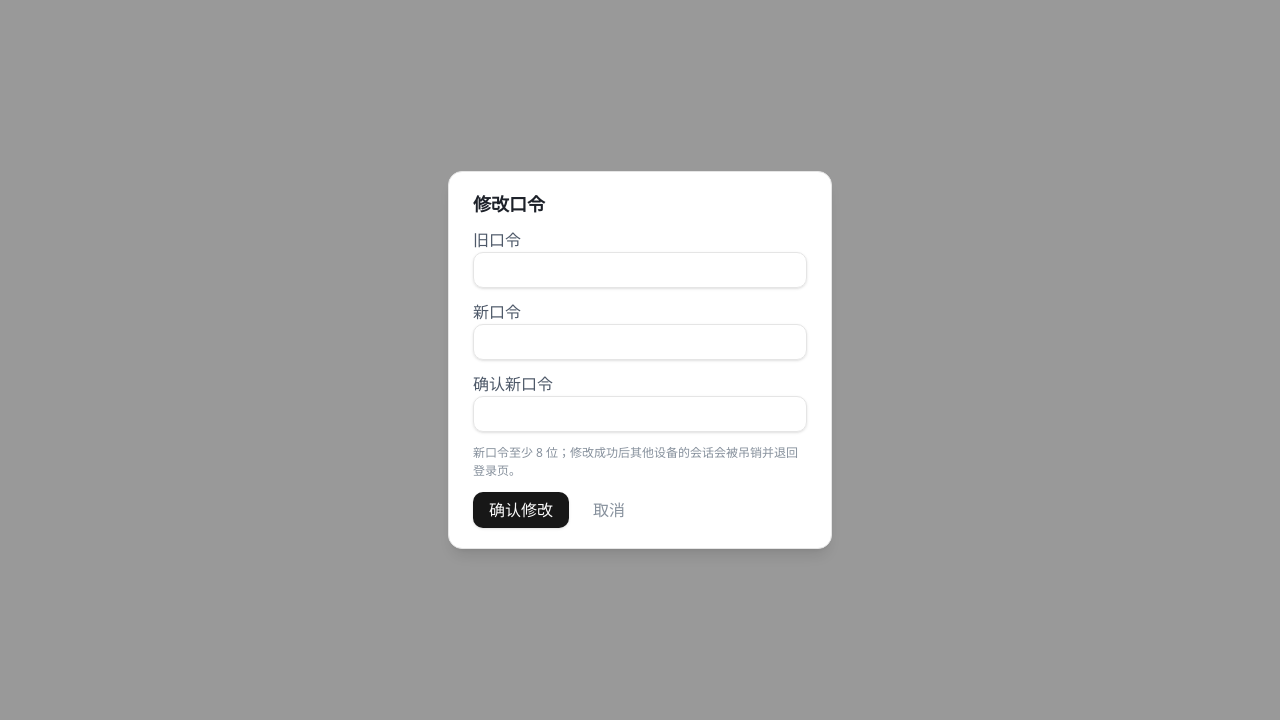
Test case: 两次新口令不一致：前端拦截，不发请求
Type "Old-Pass-9" into the password field labelled "旧口令" at (640, 270), box [473,252,807,288]
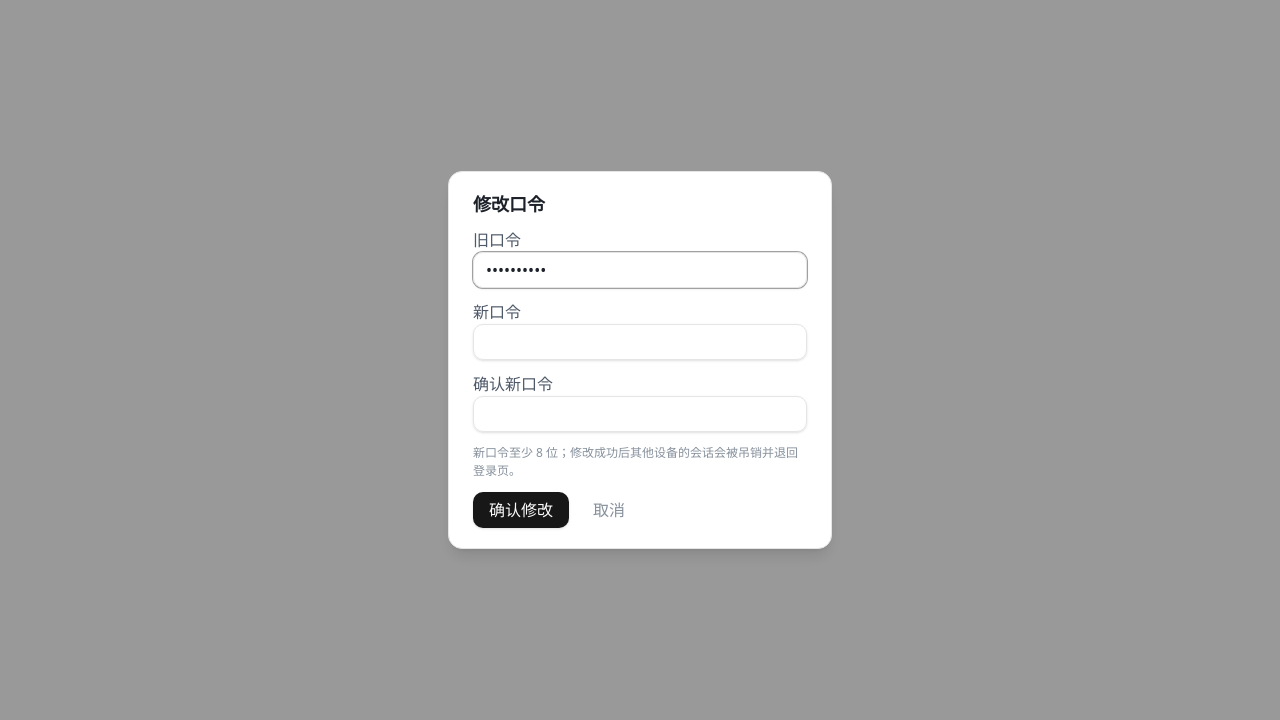
Type "New-Pass-9" into the password field labelled "新口令" at (640, 342), box [473,324,807,360]
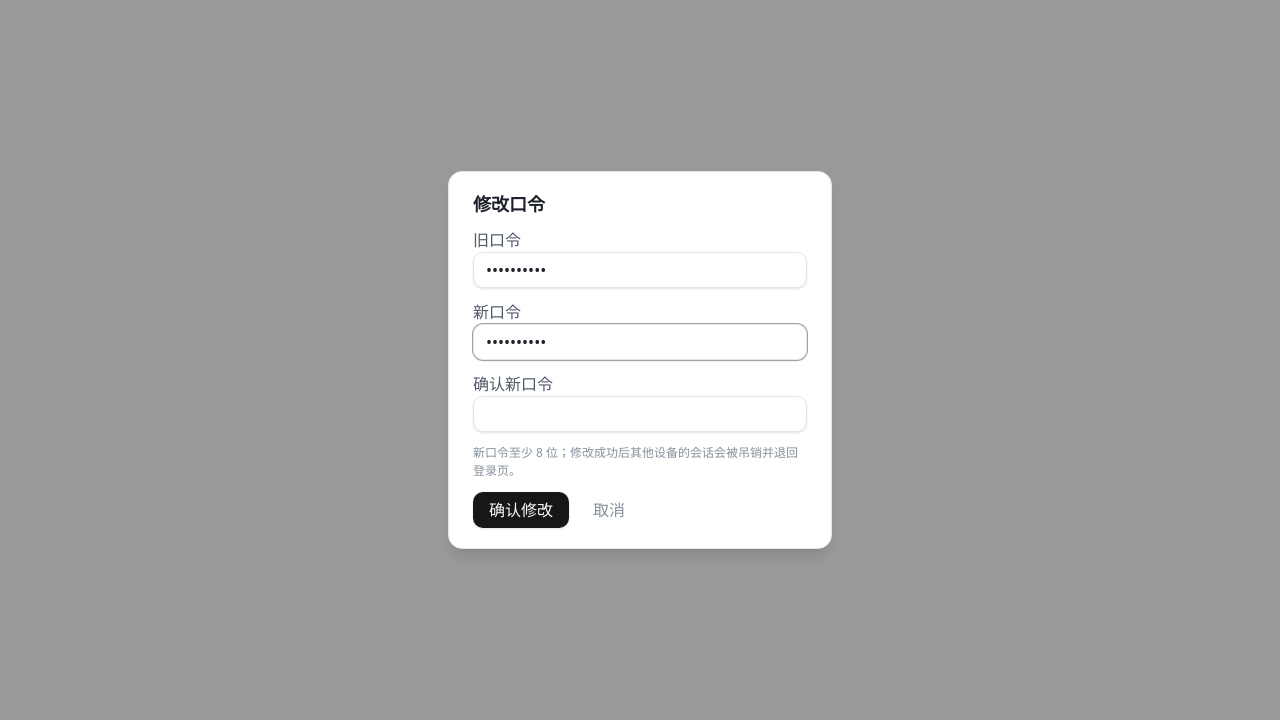
Type "New-Pass-0" into the password field labelled "确认新口令" at (640, 414), box [473,396,807,432]
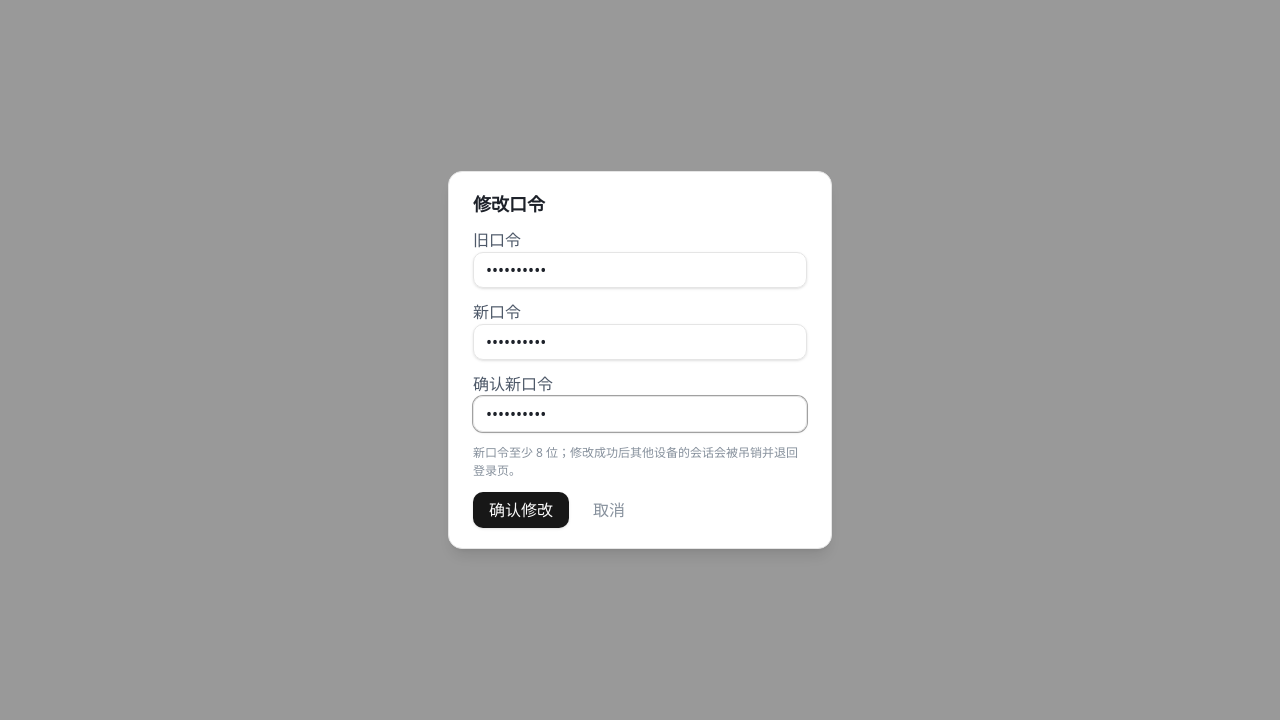
Click the button "确认修改" at (521, 510), box [473,492,569,528]
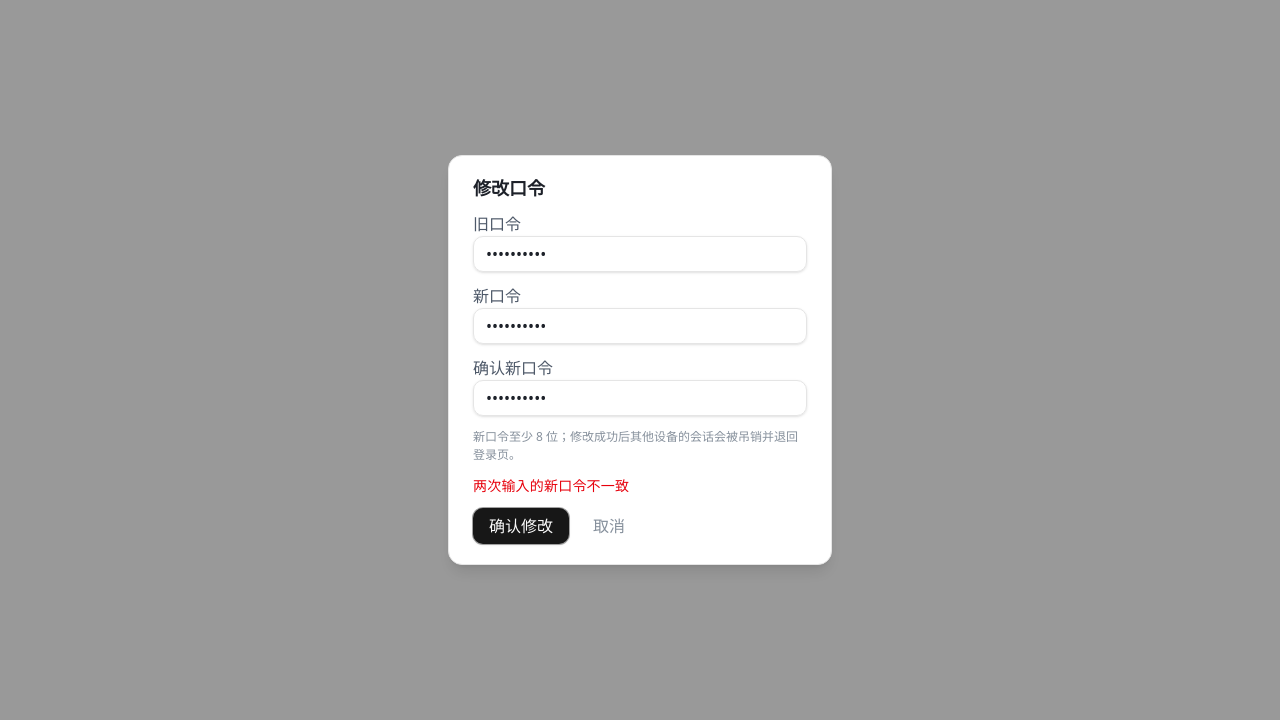
Expected: the text "两次输入的新口令不一致" is shown, [473,476,629,495]
